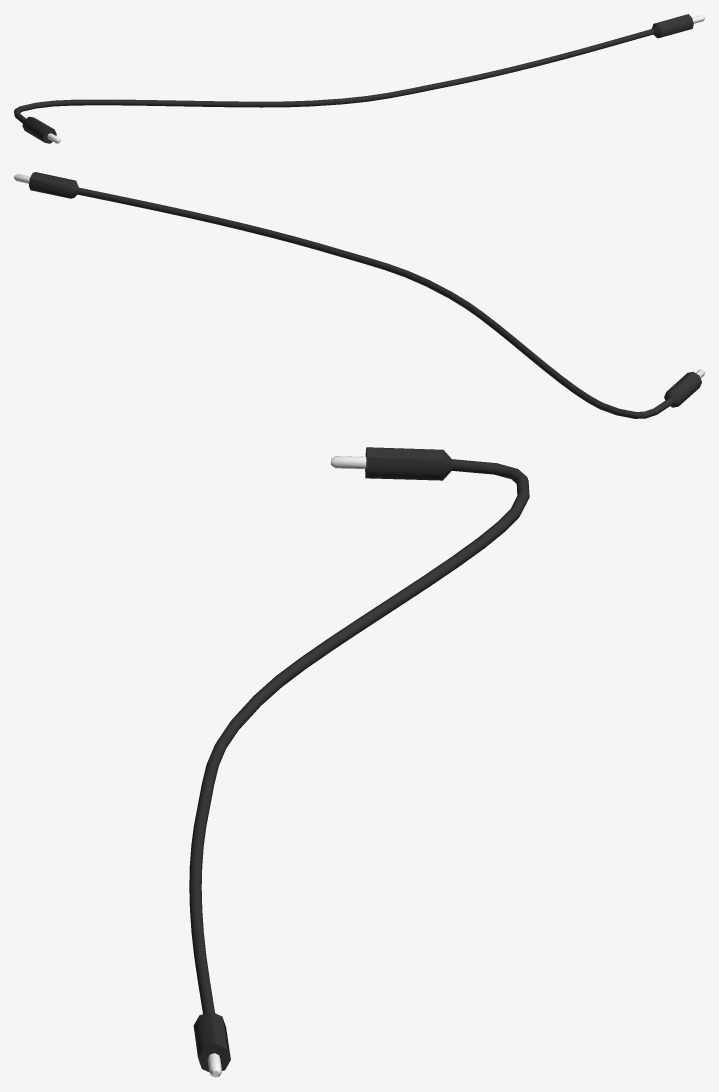
The model's file is ElectroWires07_2.FBX.
3 views of the same model, one above another, from view 1: azimuth 30°, elevation 25°; view 2: azimuth 150°, elevation 25°; view 3: azimuth 270°, elevation 25° (orthographic). The views are drawn at different scales.
Parts seen in each view (by area): view 1: Wires07; view 2: Wires07; view 3: Wires07.
Part boxes in pixels (x1,y1,x2,y2): Wires07: [14, 14, 704, 143]; Wires07: [14, 172, 704, 418]; Wires07: [189, 447, 529, 1077].
Bounding box in the file's own units: 121 × 3.61 × 28.44.
